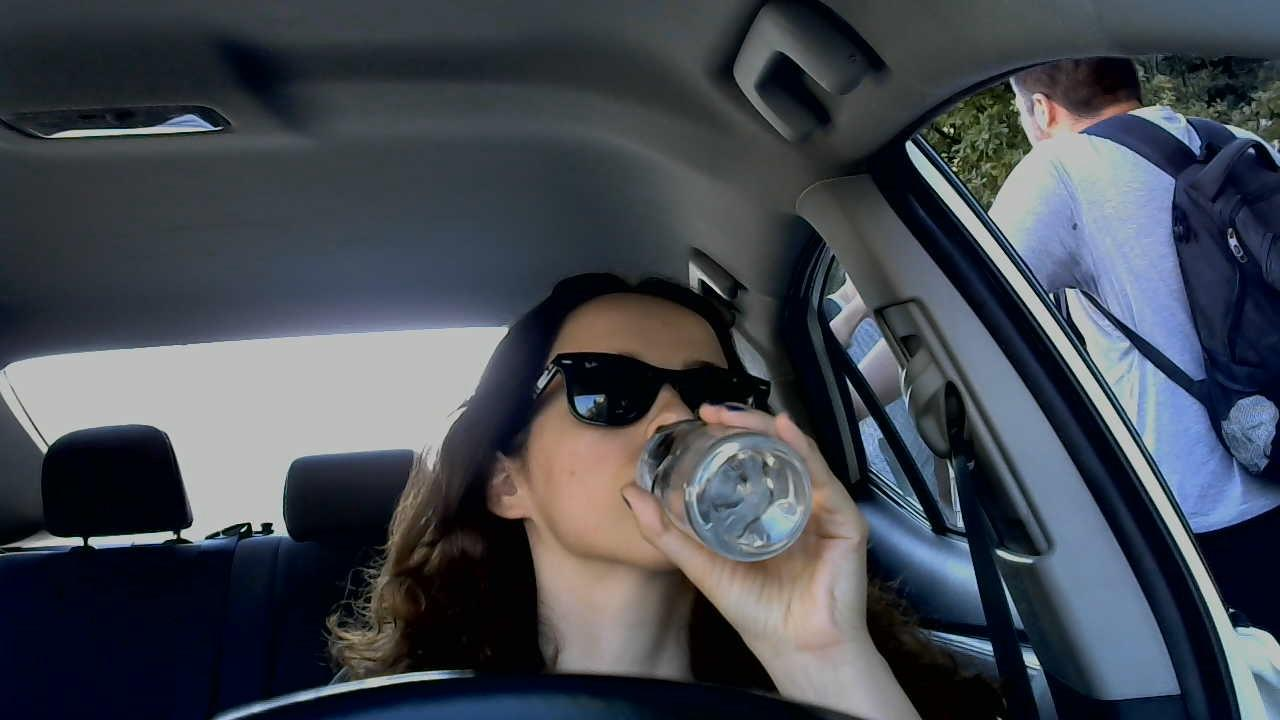Drinking: (485, 295, 866, 638)
